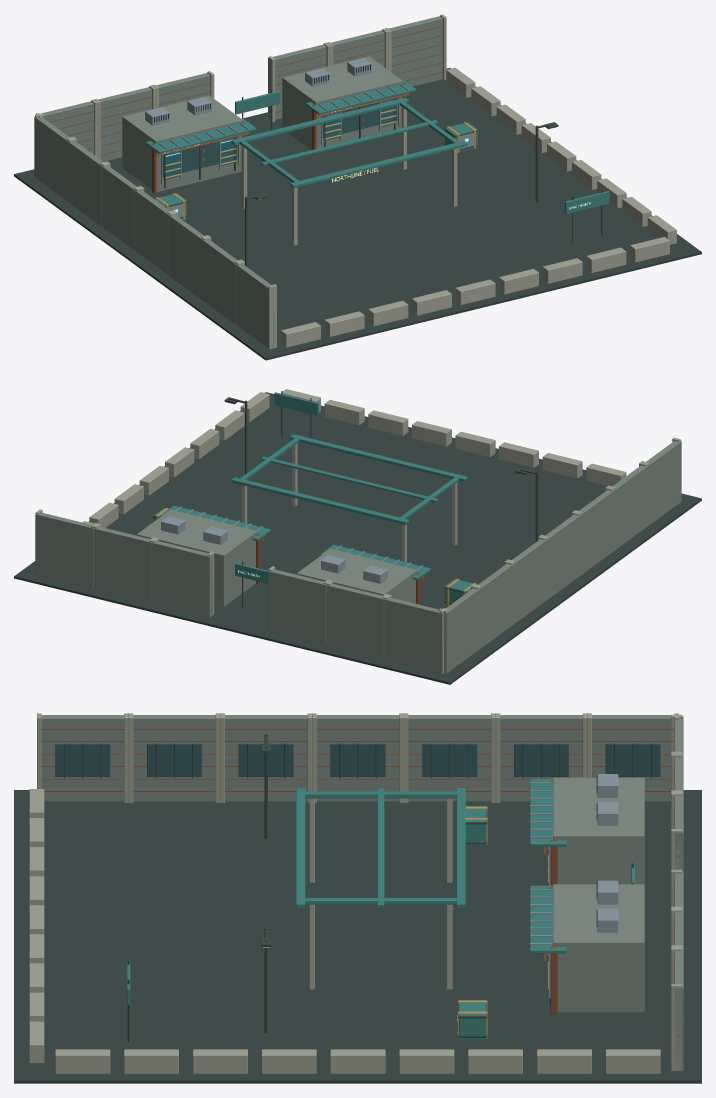
Rendered from chapter_fuel.glb.
The picture shows the model from 3 angles, top to bottom: view 1: azimuth 30°, elevation 25°; view 2: azimuth 150°, elevation 25°; view 3: azimuth 270°, elevation 25°; orthographic projection. The views are drawn at different scales.
Visible parts, largest first — view 1: chapter_fuel; view 2: chapter_fuel; view 3: chapter_fuel.
Boxes of the visible parts, <box> form: chapter_fuel: <box>14,14,701,360</box>; chapter_fuel: <box>14,389,701,684</box>; chapter_fuel: <box>14,713,701,1083</box>.
Size of the model in its own units: 30 by 5.14 by 30.
